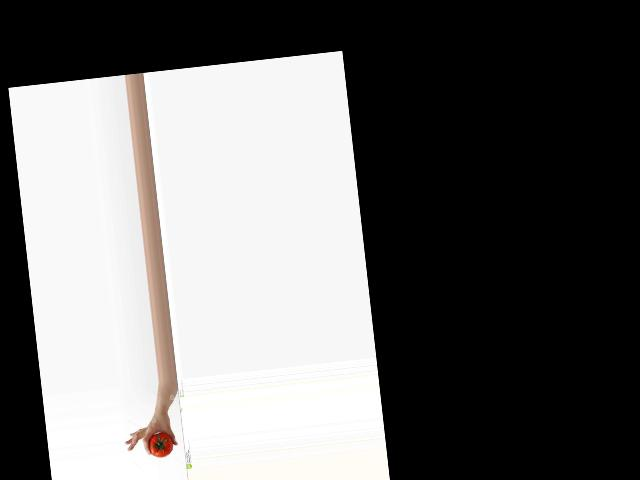tomato: (147, 431, 174, 458)
